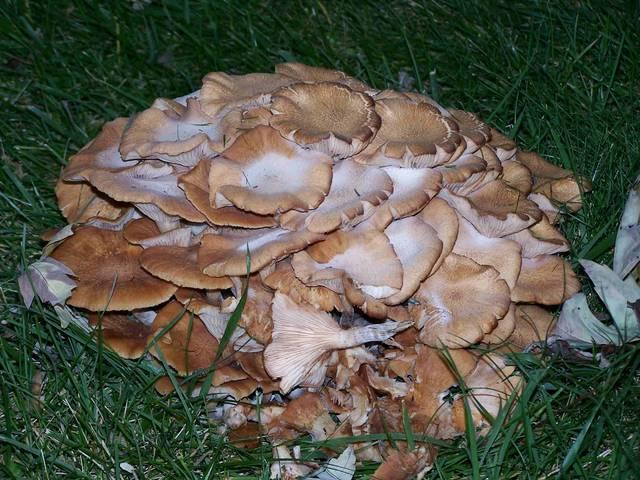edible_mushroom: (23, 60, 593, 478)
